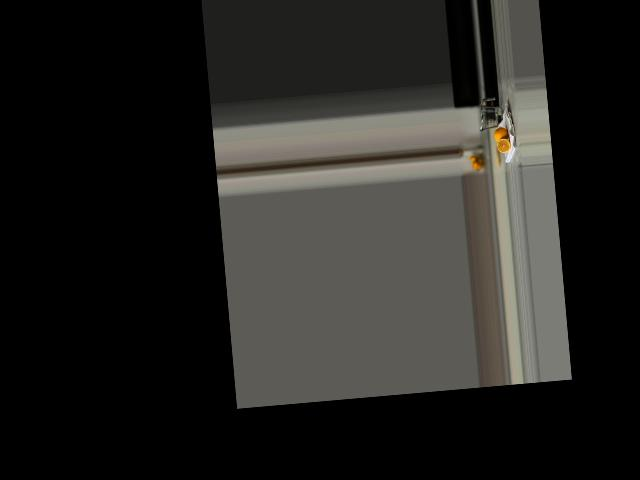lemon: (492, 125, 508, 144)
